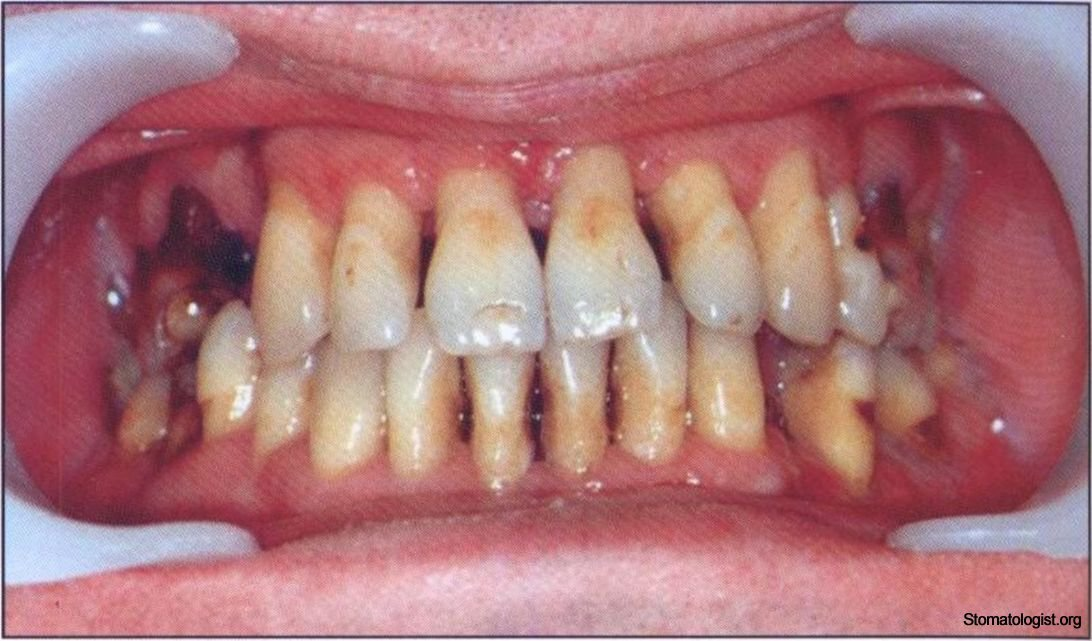LL1BC_decay: (780, 345, 880, 497)
LLCI_decay: (537, 338, 614, 477)
LLC_healthy: (692, 327, 767, 454)
LLLI_decay: (615, 328, 690, 464)
LR1BC_healthy: (259, 362, 310, 461)
LR2BC_decay: (193, 311, 261, 440)
LRCI_decay: (463, 350, 542, 489)
LRC_healthy: (309, 351, 384, 474)
LRLI_healthy: (381, 347, 460, 485)
UL1BC_decay: (827, 188, 898, 357)
ULCI_decay: (541, 149, 662, 342)
ULC_decay: (749, 155, 840, 350)
ULLI_decay: (650, 160, 768, 335)
URCI_decay: (424, 174, 544, 358)
URC_healthy: (246, 187, 328, 362)
URLI_decay: (326, 177, 421, 353)
